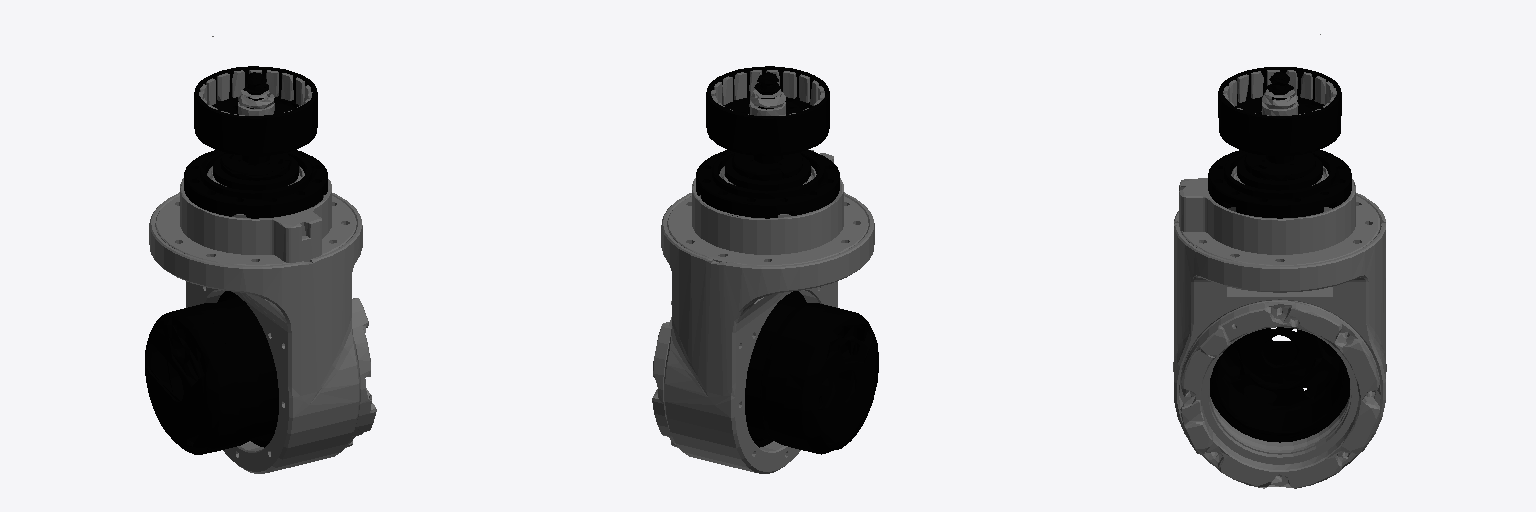
File: right_upper_arm_pitch_link.obj
The picture shows the model from 3 angles: view 1: azimuth 30°, elevation 25°; view 2: azimuth 150°, elevation 25°; view 3: azimuth 270°, elevation 25°; orthographic projection.
Parts seen in each view (by area): view 1: right_upper_arm_pitch_link; view 2: right_upper_arm_pitch_link; view 3: right_upper_arm_pitch_link.
Boxes of the visible parts, x1,y1,x2,y2 form: right_upper_arm_pitch_link: [145, 36, 376, 473]; right_upper_arm_pitch_link: [652, 66, 878, 473]; right_upper_arm_pitch_link: [1173, 34, 1386, 488].
Bounding box in the file's own units: 0.074 × 0.1586 × 0.074.